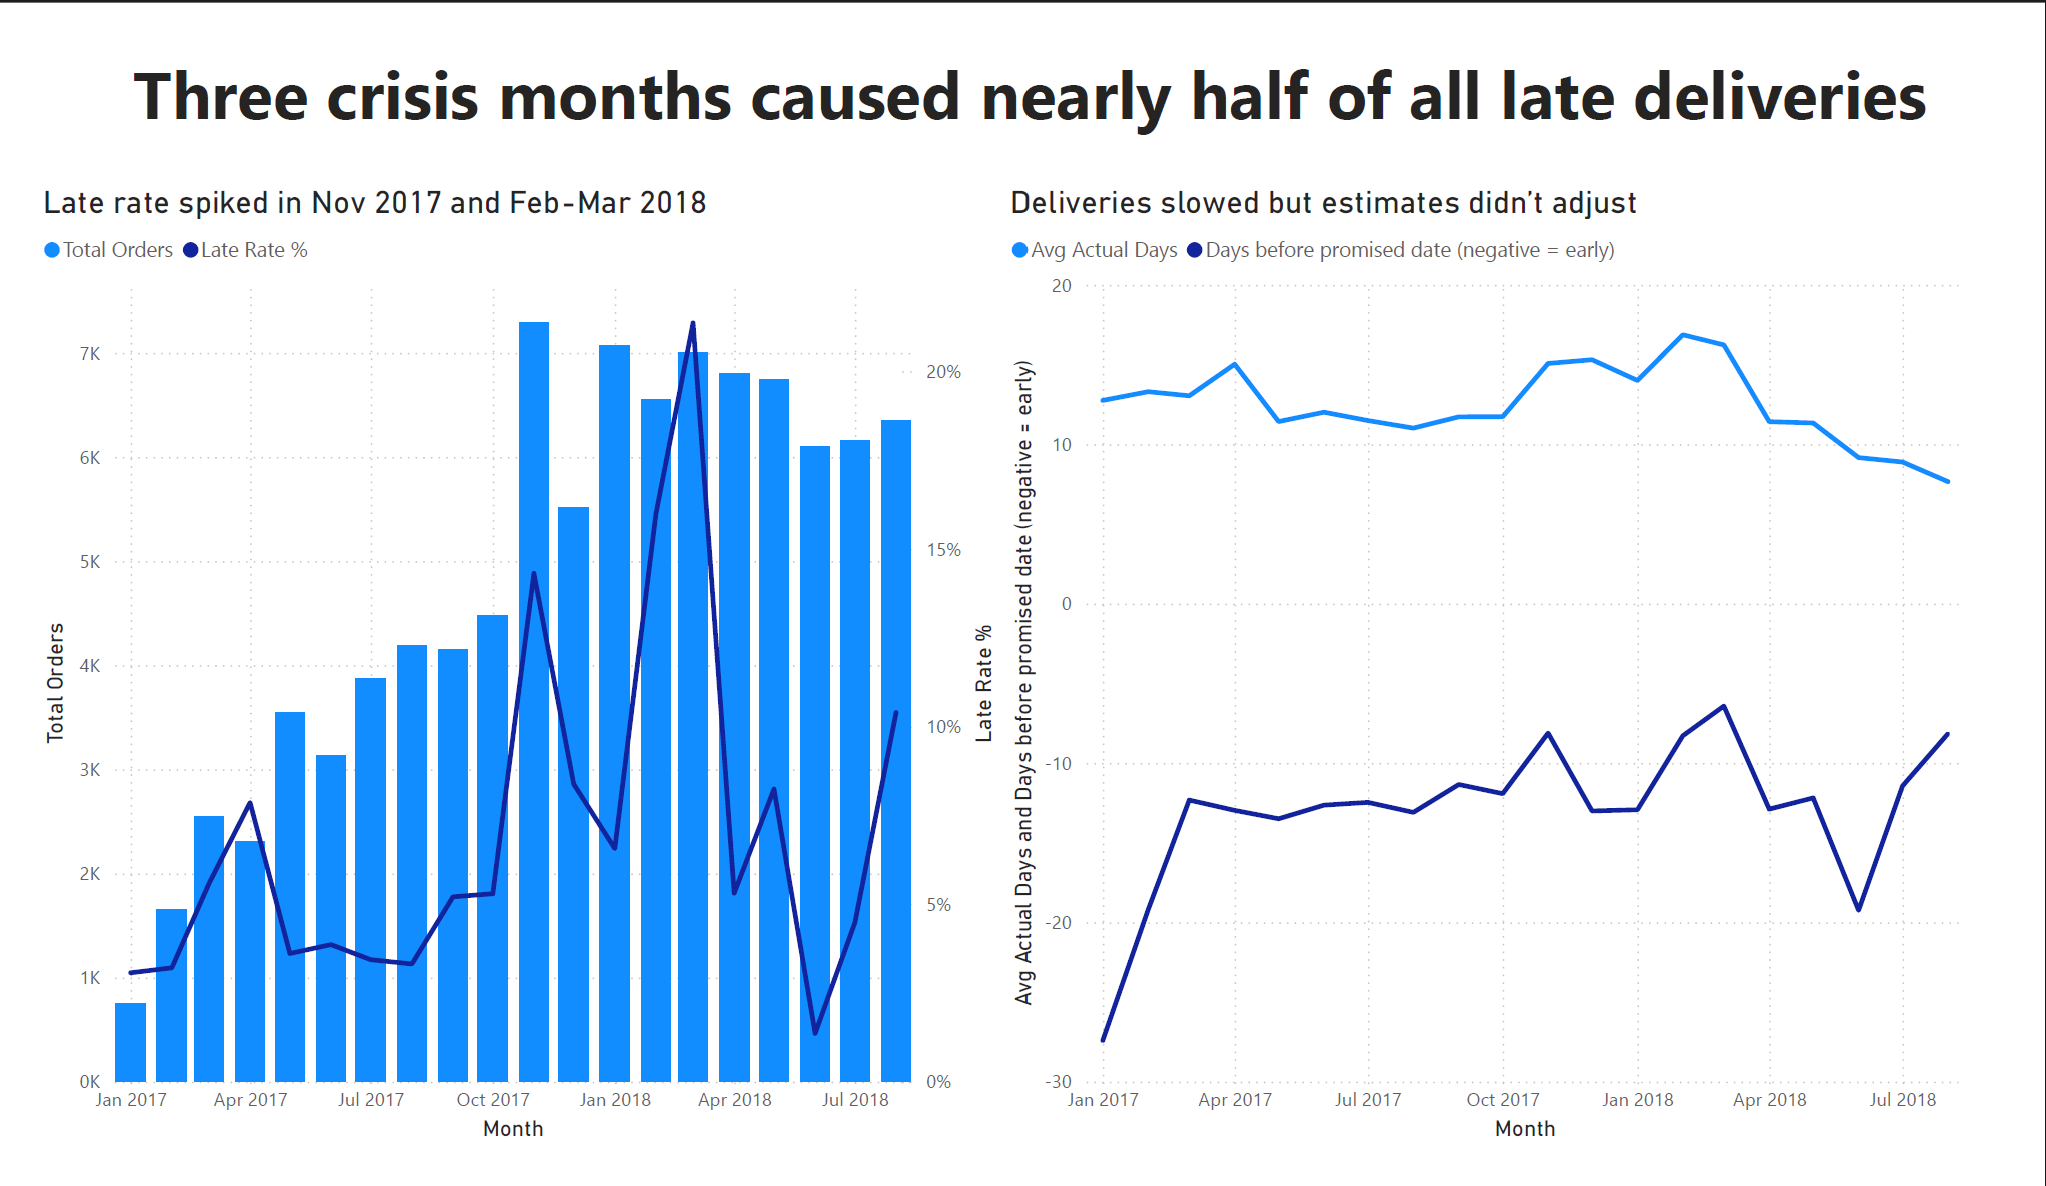

This screenshot's page, from the dashboard's own definition file:
{"tool":"powerbi","page":{"name":"When","canvas":[1280,720],"ordinal":1},"visuals":[{"type":"textbox","box":[10.7,0,1269.3,133.2],"z":0},{"type":"lineClusteredColumnComboChart","title":"Late rate spiked in Nov 2017 and Feb-Mar 2018","fields":{"Category":["Calendar.Month.Variation.Date Hierarchy.Year"],"Y":["Calendar.Total Orders"],"Y2":["Calendar.Late Rate %"]},"box":[0,93.4,627.8,626.2],"z":1000},{"type":"lineChart","title":"Deliveries slowed but estimates didn’t adjust","fields":{"Category":["Calendar.Month"],"Y":["Calendar.Avg Actual Days","Calendar.Avg Days vs Estimate"]},"box":[627.8,93.4,640,626.2],"z":2000}]}

Visuals, with their boxes in screenshot pixels (x1, y1, x2, y2), scaled from the page's 1280x720 canvas onto the 2046x1186 screenshot:
textbox: box=[17, 0, 2045, 219]
"Late rate spiked in Nov 2017 and Feb-Mar 2018" lineClusteredColumnComboChart: box=[0, 154, 1003, 1185]
"Deliveries slowed but estimates didn’t adjust" lineChart: box=[1003, 154, 2026, 1185]
